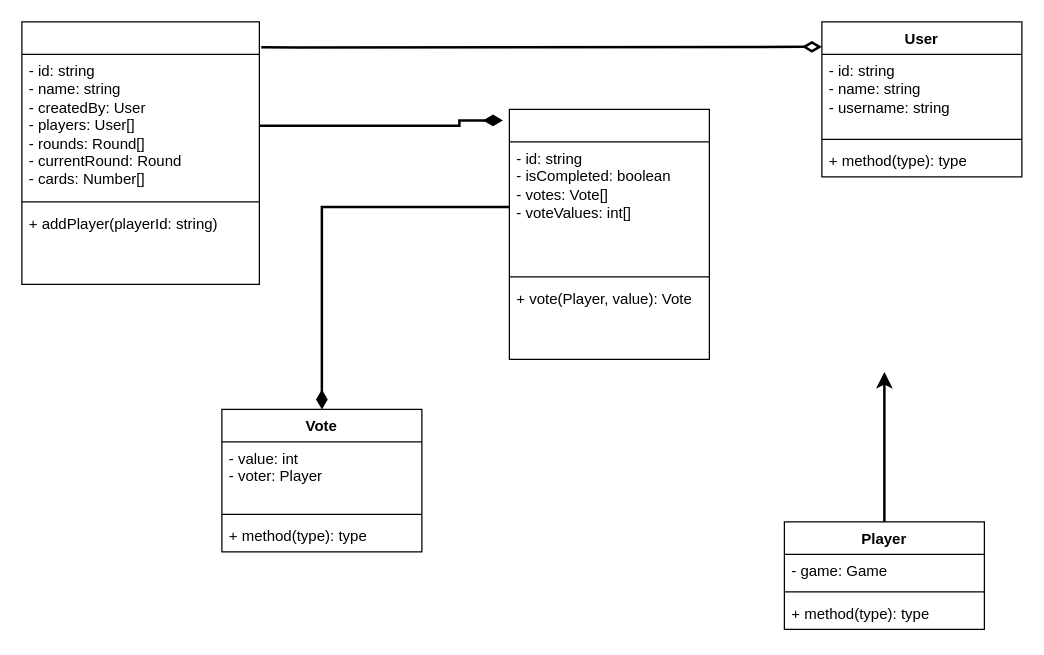
Image size: 1044x655. Some labels were removed from this diagram. Here are the shapes that lost their labels. From the top down, the box of each, then its label:
(21, 21, 259, 284): Game
(508, 108, 709, 359): Round
